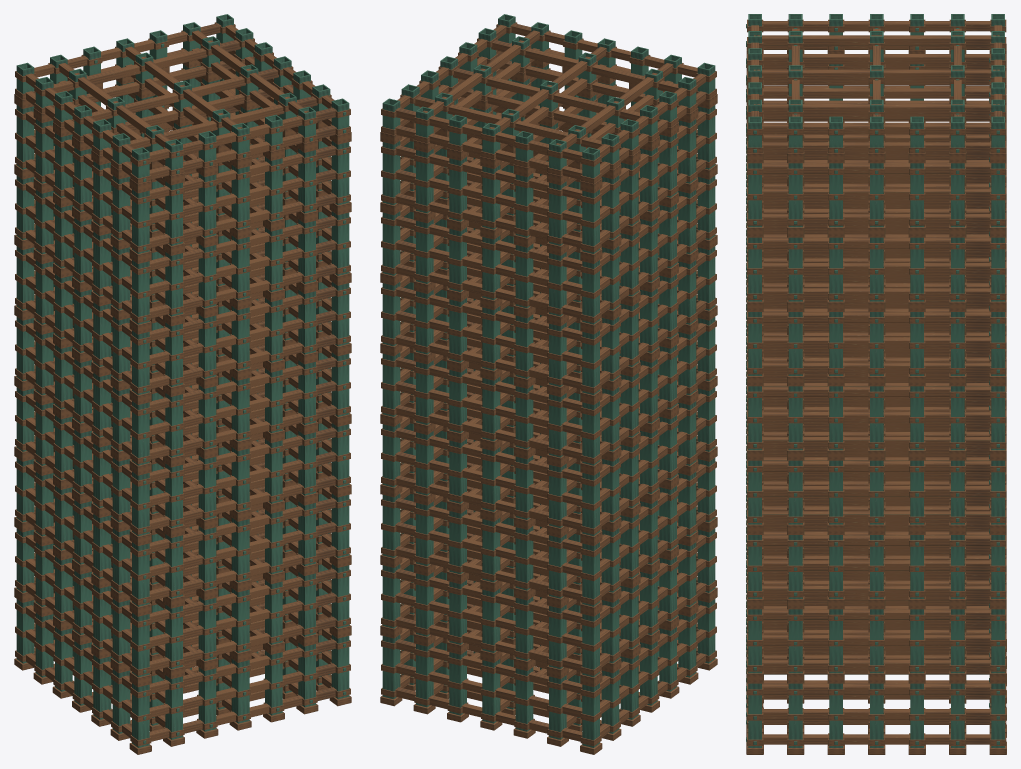
3 renders of one model, left to right at view 1: azimuth 30°, elevation 25°; view 2: azimuth 150°, elevation 25°; view 3: azimuth 270°, elevation 25°, orthographic. The views are drawn at different scales.
Visible parts, largest first — view 1: Tier 8 internal tie 0-0.56-0-0.75, Tier 8 internal tie 0-0-0-0.75, Tier 8 internal tie 0--0.56-0-0.75, Tier 2 tie 0-0-0.16, Tier 2 tie 0-0-0.5, Tier 3 tie 0-0-0.5, Tier 3 tie 0-0-0.16, Tier 7 tie 0-0-0.16, Tier 0 tie 0-0-0.16, Tier 0 tie 0-0-0.5, Tier 4 tie 0-0-0.5, Tier 7 tie 0-0-0.5 (+156 smaller); view 2: Tier 8 internal tie 0--0.56-0-0.75, Tier 8 internal tie 0-0-0-0.75, Tier 8 internal tie 0-0.56-0-0.75, Tier 2 tie 2-0-0.16, Tier 2 tie 2-0-0.5, Tier 3 tie 2-0-0.5, Tier 3 tie 2-0-0.16, Tier 7 tie 2-0-0.16, Tier 0 tie 2-0-0.16, Tier 0 tie 2-0-0.5, Tier 1 tie 2-0-0.5, Tier 4 tie 2-0-0.5 (+156 smaller); view 3: Tier 8 internal tie 1-0-0-0.75, Tier 8 internal tie 1--0.56-0-0.75, Tier 8 internal tie 1-0.56-0-0.75, Tier 8 internal tie 1-0-0-0.25, Tier 8 internal tie 1--0.56-0-0.25, Tier 1 tie 1-0-0.5, Tier 4 tie 1-0-0.5, Tier 6 tie 1-0-0.84, Tier 0 tie 1-0-0.16, Tier 2 tie 1-0-0.5, Tier 3 tie 1-0-0.16, Tier 5 tie 1-0-0.5 (+149 smaller).
Part boxes in pixels (bbox=[...]): Tier 8 internal tie 0-0.56-0-0.75: bbox=[53, 40, 240, 92]; Tier 8 internal tie 0-0-0-0.75: bbox=[92, 68, 278, 120]; Tier 8 internal tie 0--0.56-0-0.75: bbox=[130, 96, 317, 148]; Tier 2 tie 0-0-0.16: bbox=[149, 546, 336, 600]; Tier 2 tie 0-0-0.5: bbox=[149, 522, 336, 576]; Tier 3 tie 0-0-0.5: bbox=[149, 451, 336, 505]; Tier 3 tie 0-0-0.16: bbox=[149, 475, 336, 529]; Tier 7 tie 0-0-0.16: bbox=[149, 193, 336, 247]; Tier 0 tie 0-0-0.16: bbox=[149, 687, 336, 741]; Tier 0 tie 0-0-0.5: bbox=[149, 663, 336, 717]; Tier 4 tie 0-0-0.5: bbox=[149, 381, 336, 435]; Tier 7 tie 0-0-0.5: bbox=[149, 169, 336, 223]; Tier 8 internal tie 0--0.56-0-0.75: bbox=[491, 40, 678, 92]; Tier 8 internal tie 0-0-0-0.75: bbox=[453, 68, 639, 120]; Tier 8 internal tie 0-0.56-0-0.75: bbox=[414, 96, 601, 148]; Tier 2 tie 2-0-0.16: bbox=[395, 546, 582, 600]; Tier 2 tie 2-0-0.5: bbox=[395, 522, 582, 576]; Tier 3 tie 2-0-0.5: bbox=[395, 451, 582, 505]; Tier 3 tie 2-0-0.16: bbox=[395, 475, 582, 529]; Tier 7 tie 2-0-0.16: bbox=[395, 193, 582, 247]; Tier 0 tie 2-0-0.16: bbox=[395, 687, 582, 741]; Tier 0 tie 2-0-0.5: bbox=[395, 663, 582, 717]; Tier 1 tie 2-0-0.5: bbox=[395, 592, 582, 647]; Tier 4 tie 2-0-0.5: bbox=[395, 381, 582, 435]; Tier 8 internal tie 1-0-0-0.75: bbox=[753, 69, 999, 79]; Tier 8 internal tie 1--0.56-0-0.75: bbox=[754, 35, 999, 45]; Tier 8 internal tie 1-0.56-0-0.75: bbox=[753, 104, 999, 114]; Tier 8 internal tie 1-0-0-0.25: bbox=[763, 88, 990, 98]; Tier 8 internal tie 1--0.56-0-0.25: bbox=[763, 54, 990, 64]; Tier 1 tie 1-0-0.5: bbox=[762, 634, 991, 645]; Tier 4 tie 1-0-0.5: bbox=[762, 411, 991, 422]; Tier 6 tie 1-0-0.84: bbox=[762, 237, 991, 248]; Tier 0 tie 1-0-0.16: bbox=[762, 734, 991, 744]; Tier 2 tie 1-0-0.5: bbox=[762, 560, 991, 570]; Tier 3 tie 1-0-0.16: bbox=[762, 511, 991, 521]; Tier 5 tie 1-0-0.5: bbox=[762, 337, 991, 347].
Size of the model in its own units: 1.8 by 4.82 by 1.8.
2 materials, 2 textured.
